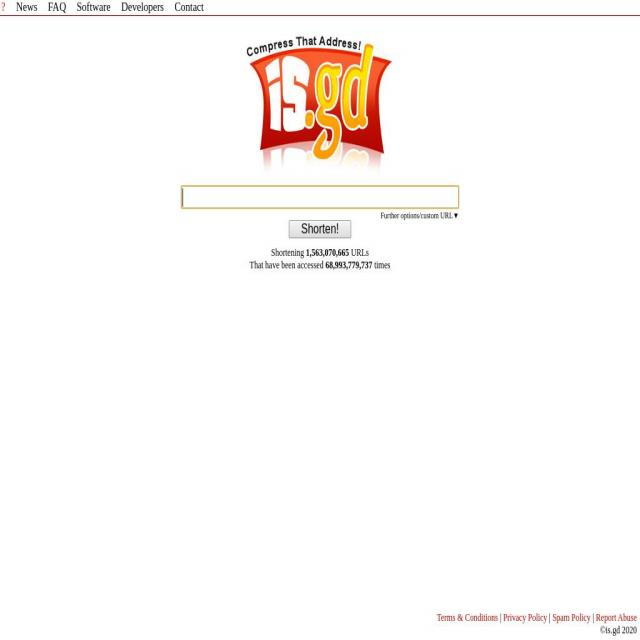field: (173, 177, 472, 285)
navigation-links: (3, 0, 208, 20)
